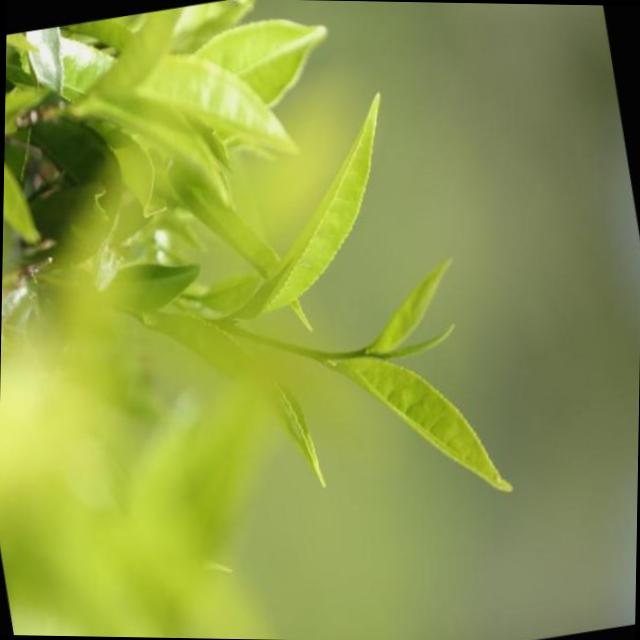Stem: (352, 349, 363, 358)
